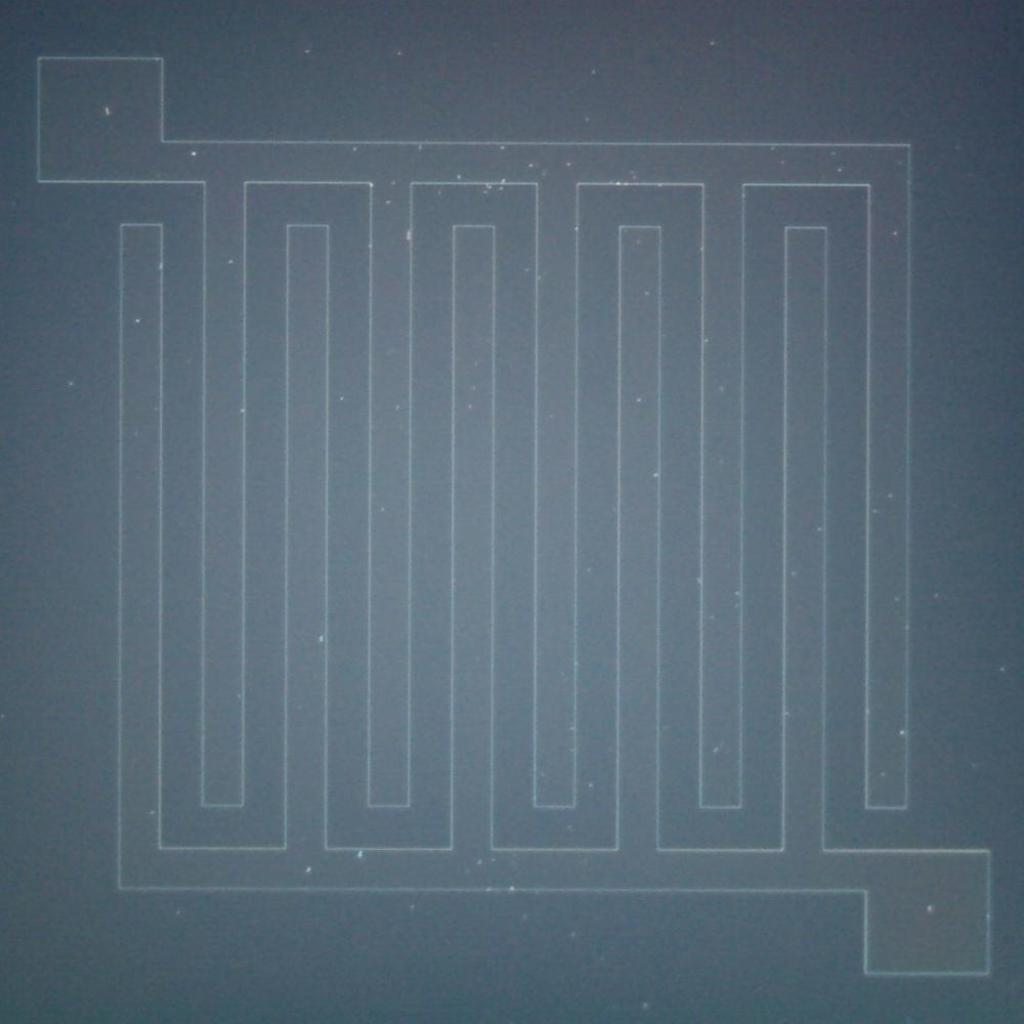dot: (462, 108, 705, 216), (287, 32, 326, 72), (704, 728, 734, 772), (306, 622, 329, 655), (306, 622, 329, 655), (356, 841, 380, 871), (300, 851, 322, 882), (401, 222, 426, 249), (473, 844, 487, 888), (650, 459, 670, 489), (917, 898, 942, 922), (503, 870, 525, 897), (622, 383, 648, 405), (416, 136, 434, 167), (96, 102, 118, 120), (186, 139, 202, 159), (344, 140, 364, 154), (900, 714, 907, 747)
